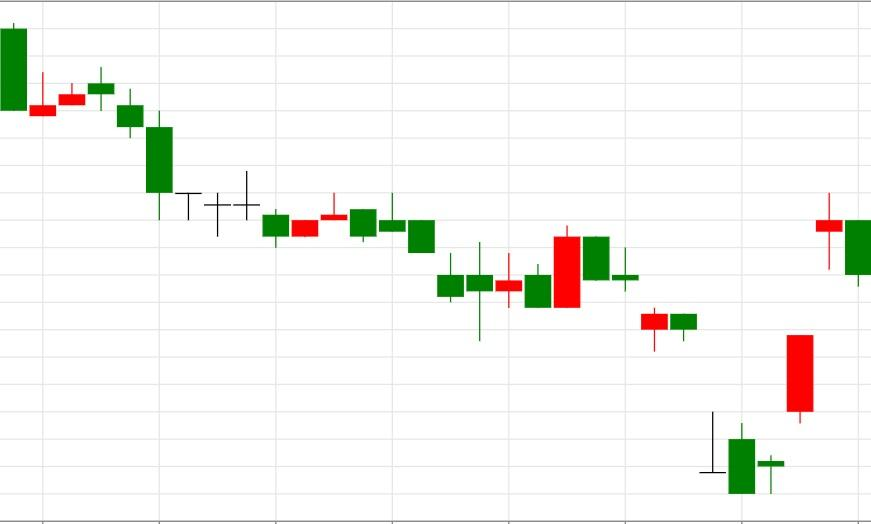bullish_engulfing_rise: (349, 192, 581, 341)
three_black_crows_fall: (28, 66, 172, 220)
